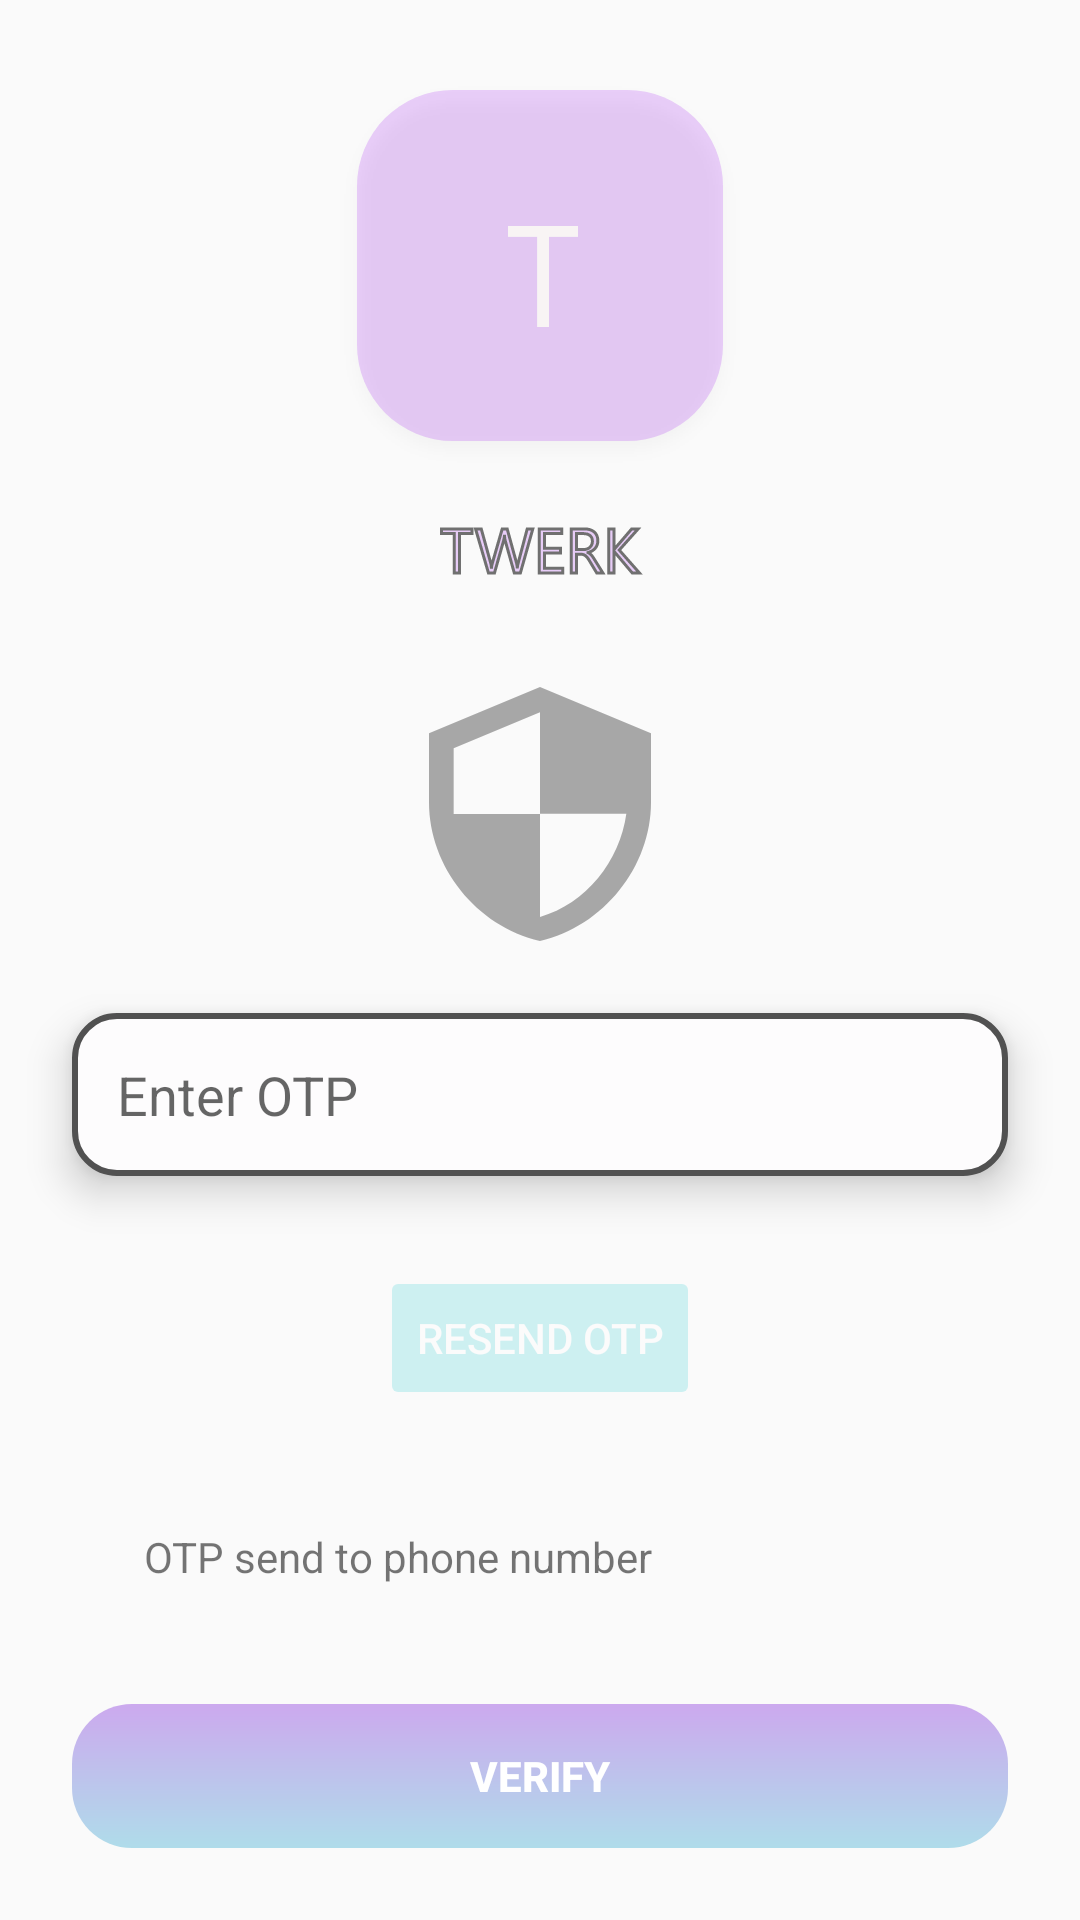

Where icons sit on this 1080x1920 app screen, as (x1, y1, x2, y2):
security: (429, 687, 651, 941)
